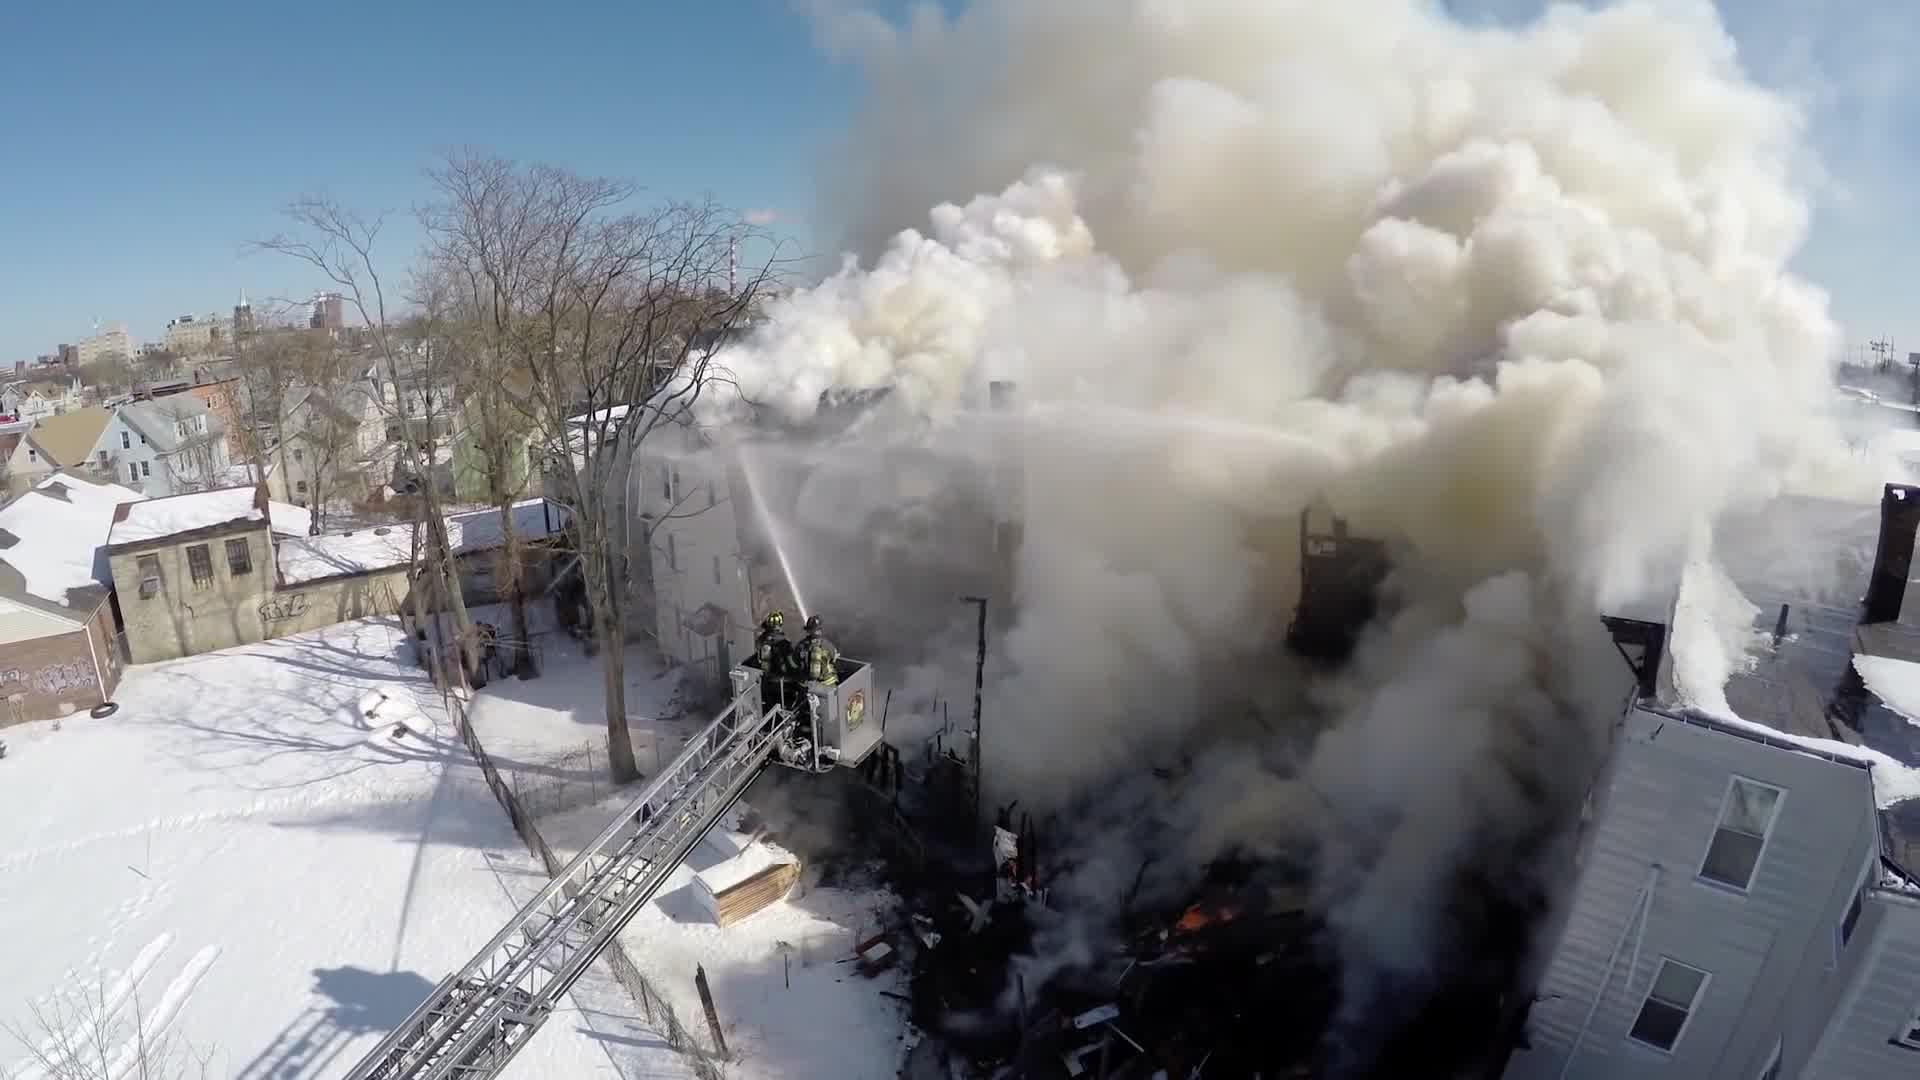smoke: (890, 240, 1590, 789), (1484, 62, 1776, 240), (1153, 18, 1424, 204)
